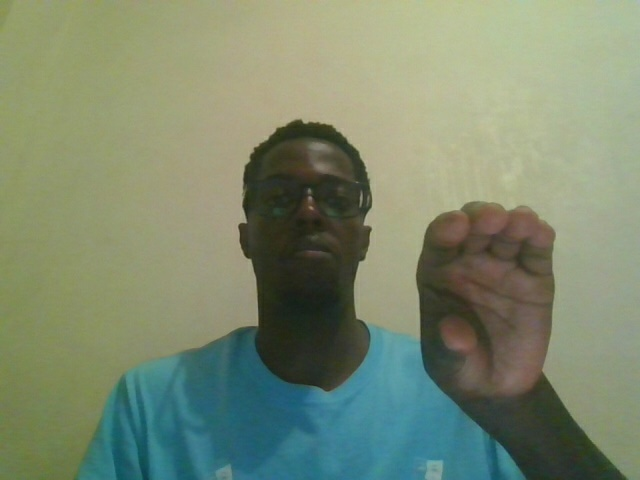No: (411, 193, 640, 463)
